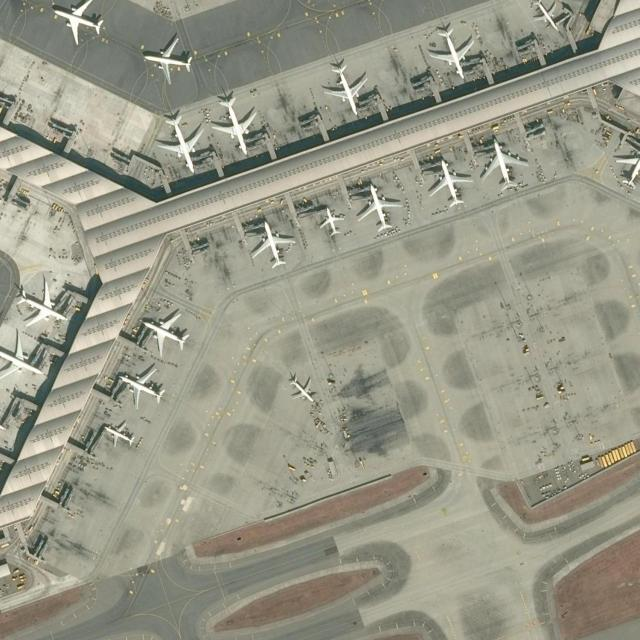Aircraft: (155, 108, 205, 174), (209, 91, 259, 156), (138, 31, 194, 82), (478, 137, 529, 193), (12, 278, 68, 329), (322, 58, 369, 116), (49, 0, 107, 46), (427, 24, 474, 80), (428, 158, 474, 210), (251, 218, 297, 268), (0, 328, 46, 378), (359, 181, 403, 232), (140, 311, 191, 353), (116, 366, 166, 408), (613, 144, 640, 186), (101, 420, 137, 448), (531, 0, 563, 31), (286, 373, 318, 403), (319, 204, 345, 237)
